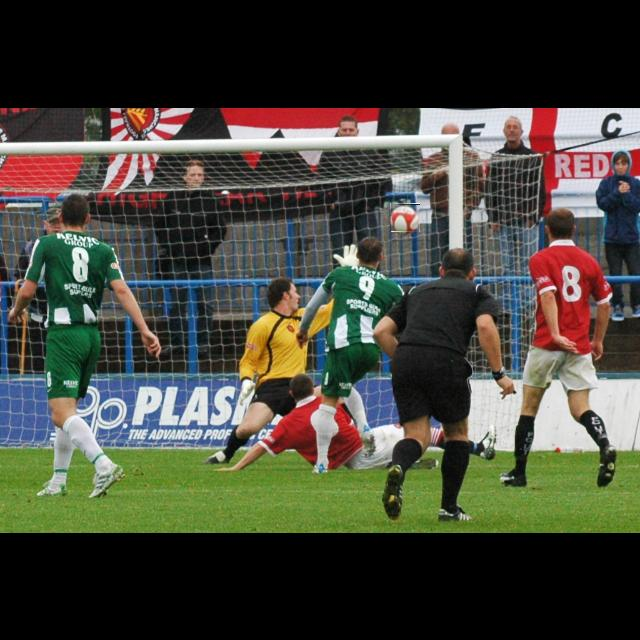Football: (390, 204, 420, 232)
